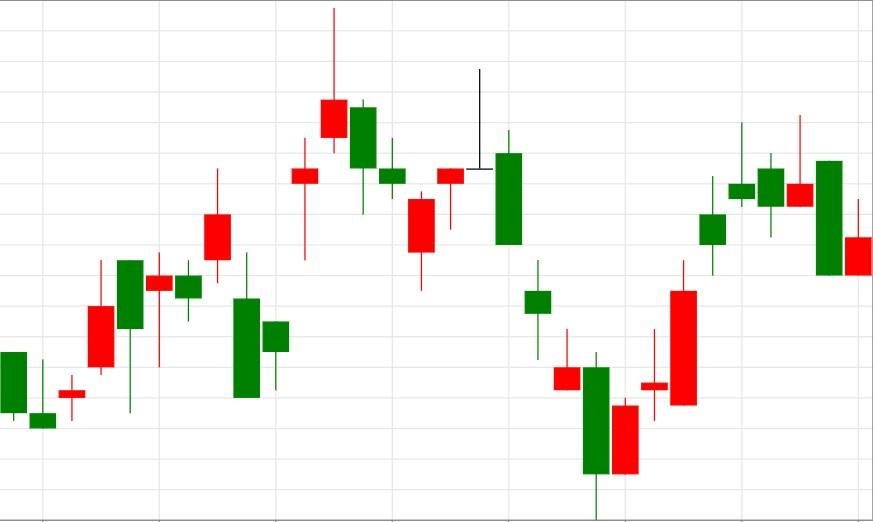shooting_star_fall: (233, 9, 350, 398)
